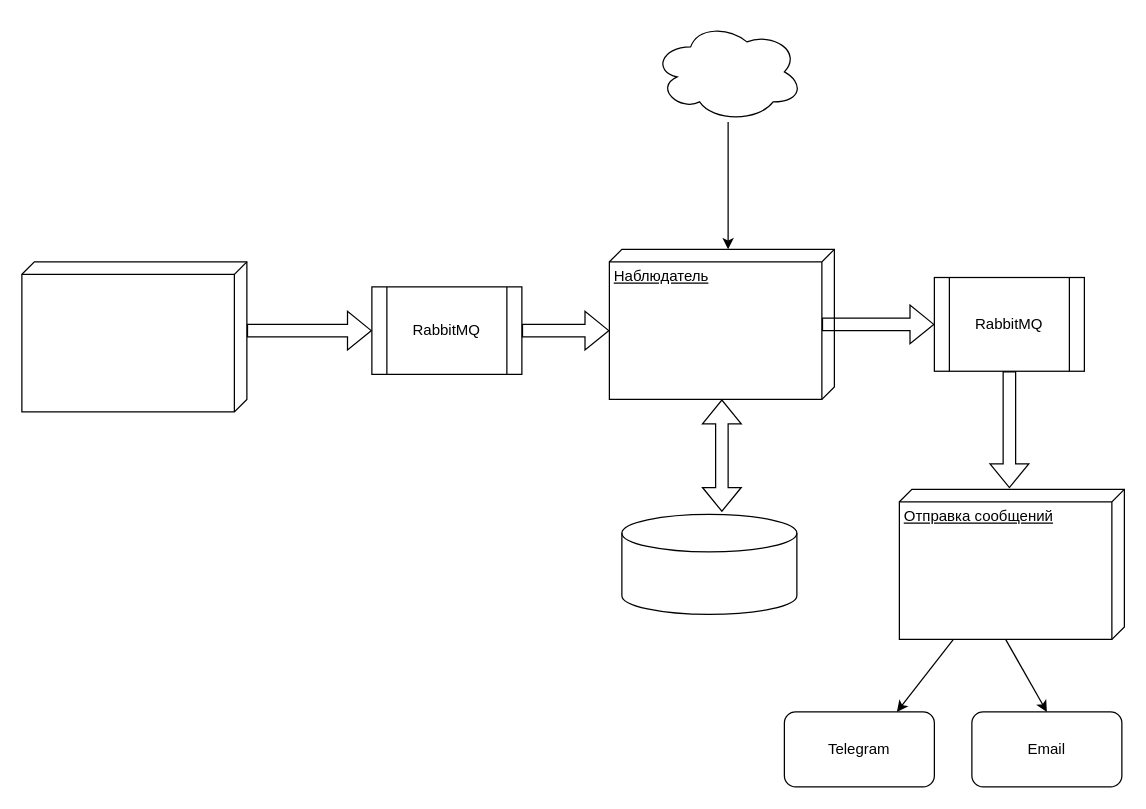
Some shapes in this 1146 by 809 pixel diagram are drawn without their labels. The shapes that lost their labels are listed below. From the top down, each one's centre as x and y in pixels, then its label:
At (727,71): "Web.Api".
At (134,336): "Камера".
At (709,563): "Postgres".
